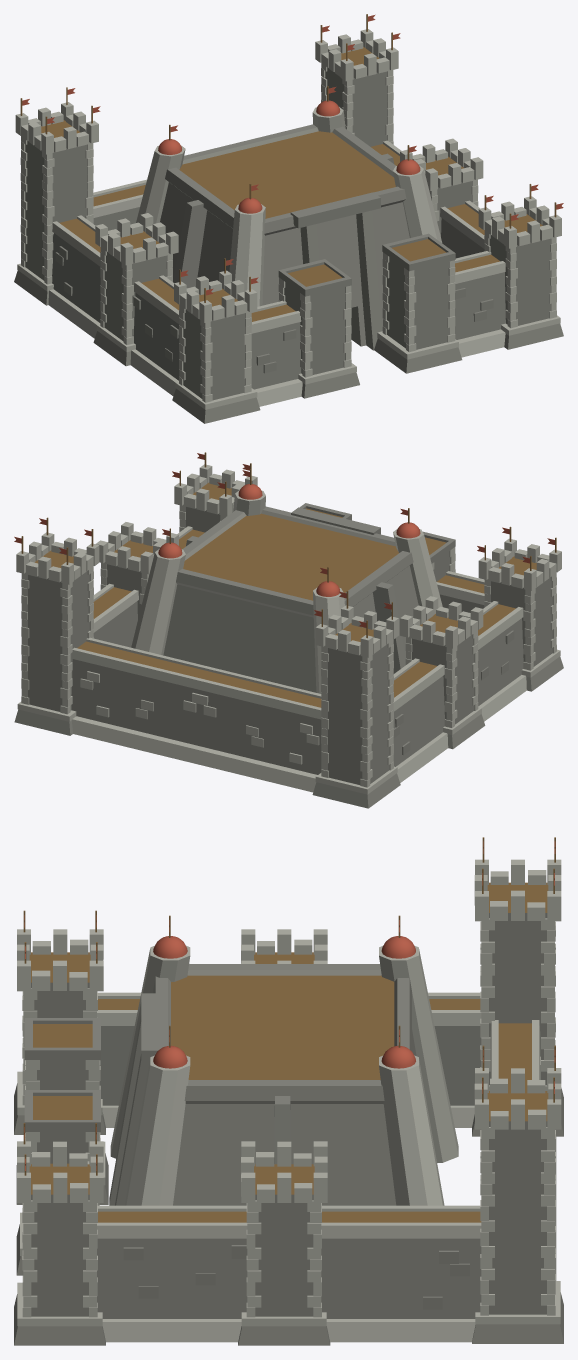
The model's file is quaternius-real-time-strategy-wonder-second-age-level-2.glb.
3 renders of one model, top to bottom at view 1: azimuth 30°, elevation 25°; view 2: azimuth 150°, elevation 25°; view 3: azimuth 270°, elevation 25°, orthographic. The views are drawn at different scales.
Parts seen in each view (by area): view 1: Wonder_SecondAge_Level2; view 2: Wonder_SecondAge_Level2; view 3: Wonder_SecondAge_Level2.
Boxes of the visible parts, x1,y1,x2,y2 form: Wonder_SecondAge_Level2: [14, 14, 563, 423]; Wonder_SecondAge_Level2: [14, 452, 563, 808]; Wonder_SecondAge_Level2: [14, 837, 563, 1345].
Bounding box in the file's own units: 2.13 × 1.08 × 1.96.
